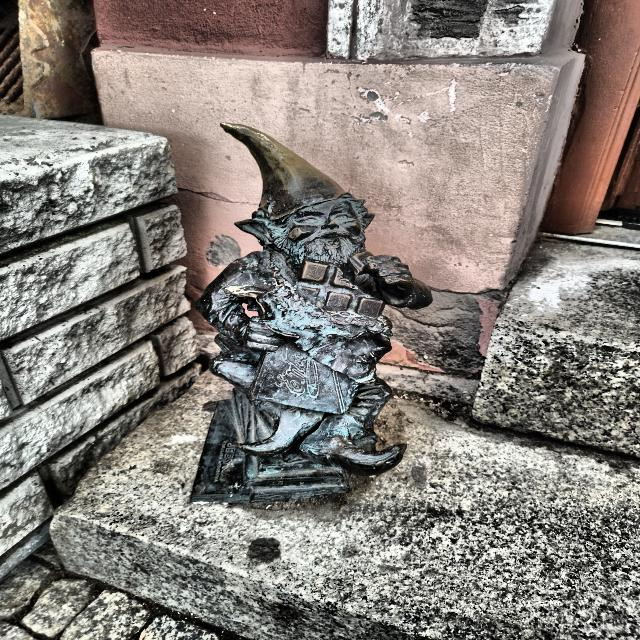Wedelek: (192, 125, 432, 501)
